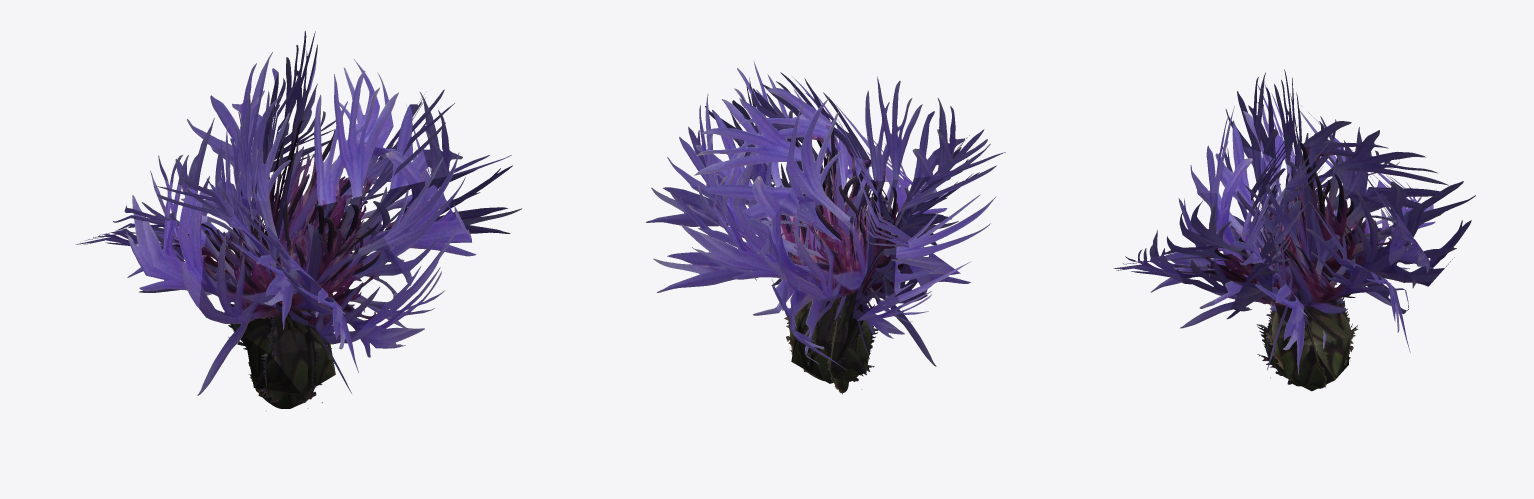
The model's file is flower3.obj.
3 renders of one model, left to right at view 1: azimuth 30°, elevation 25°; view 2: azimuth 150°, elevation 25°; view 3: azimuth 270°, elevation 25°, orthographic. The views are drawn at different scales.
Visible parts, largest first — view 1: flower_01_Plane.035; view 2: flower_01_Plane.035; view 3: flower_01_Plane.035.
Part boxes in pixels (<box>): flower_01_Plane.035: <box>75,31,521,410</box>; flower_01_Plane.035: <box>646,61,1005,394</box>; flower_01_Plane.035: <box>1113,69,1475,391</box>.
Bounding box in the file's own units: 6.04 × 4.45 × 5.37.
